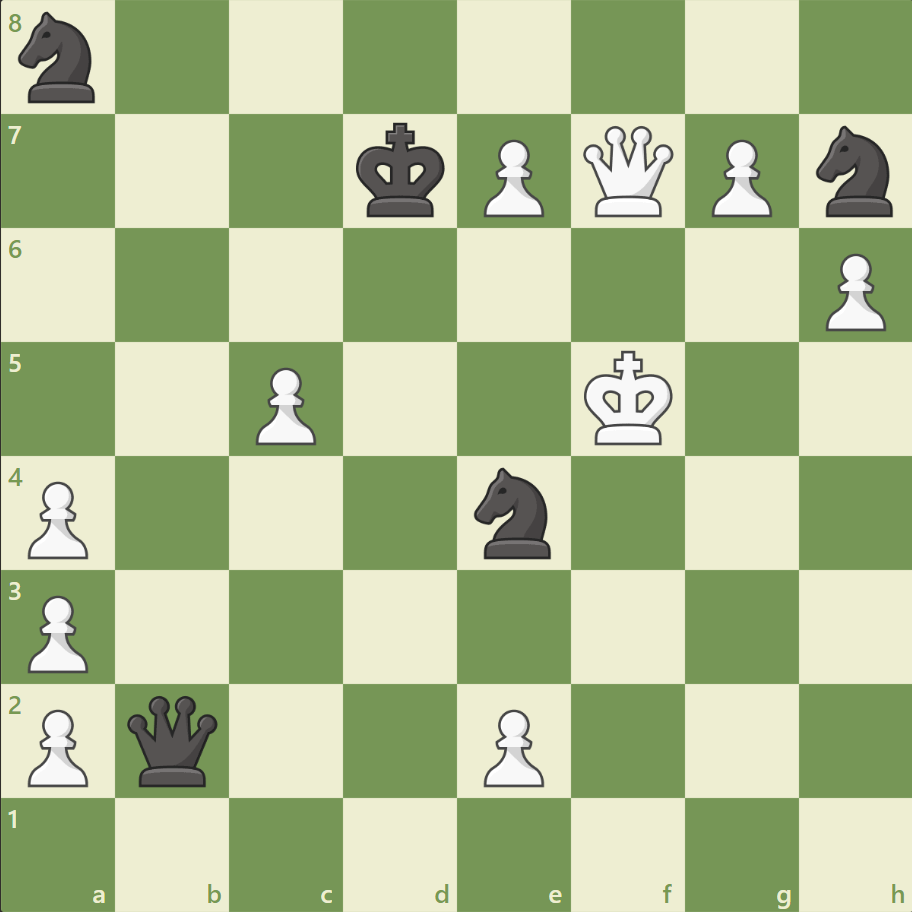K: (579, 344, 679, 452)
P: (474, 132, 549, 223), (701, 132, 776, 223), (247, 359, 322, 450), (20, 473, 95, 564), (20, 586, 95, 677), (20, 700, 95, 791), (474, 700, 549, 791), (815, 246, 889, 337)
Q: (578, 122, 677, 222)
k: (351, 117, 451, 225)
n: (11, 7, 108, 110), (465, 461, 562, 564), (806, 121, 903, 223)
q: (124, 690, 223, 789)
